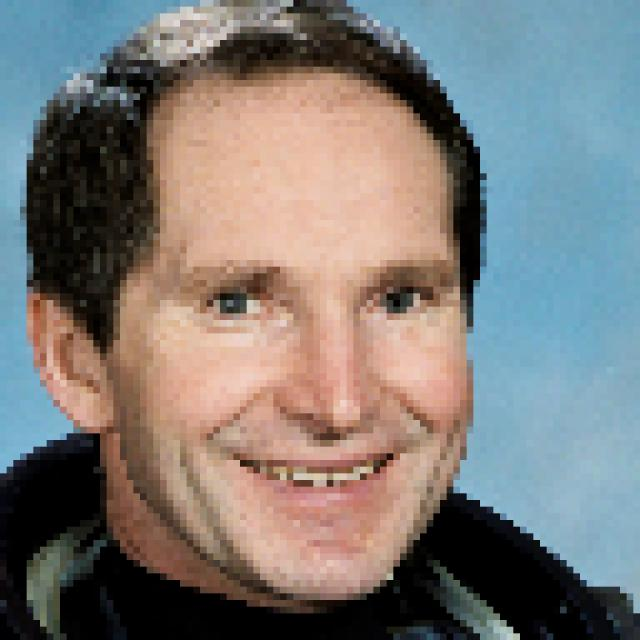happy: (86, 53, 506, 640)
